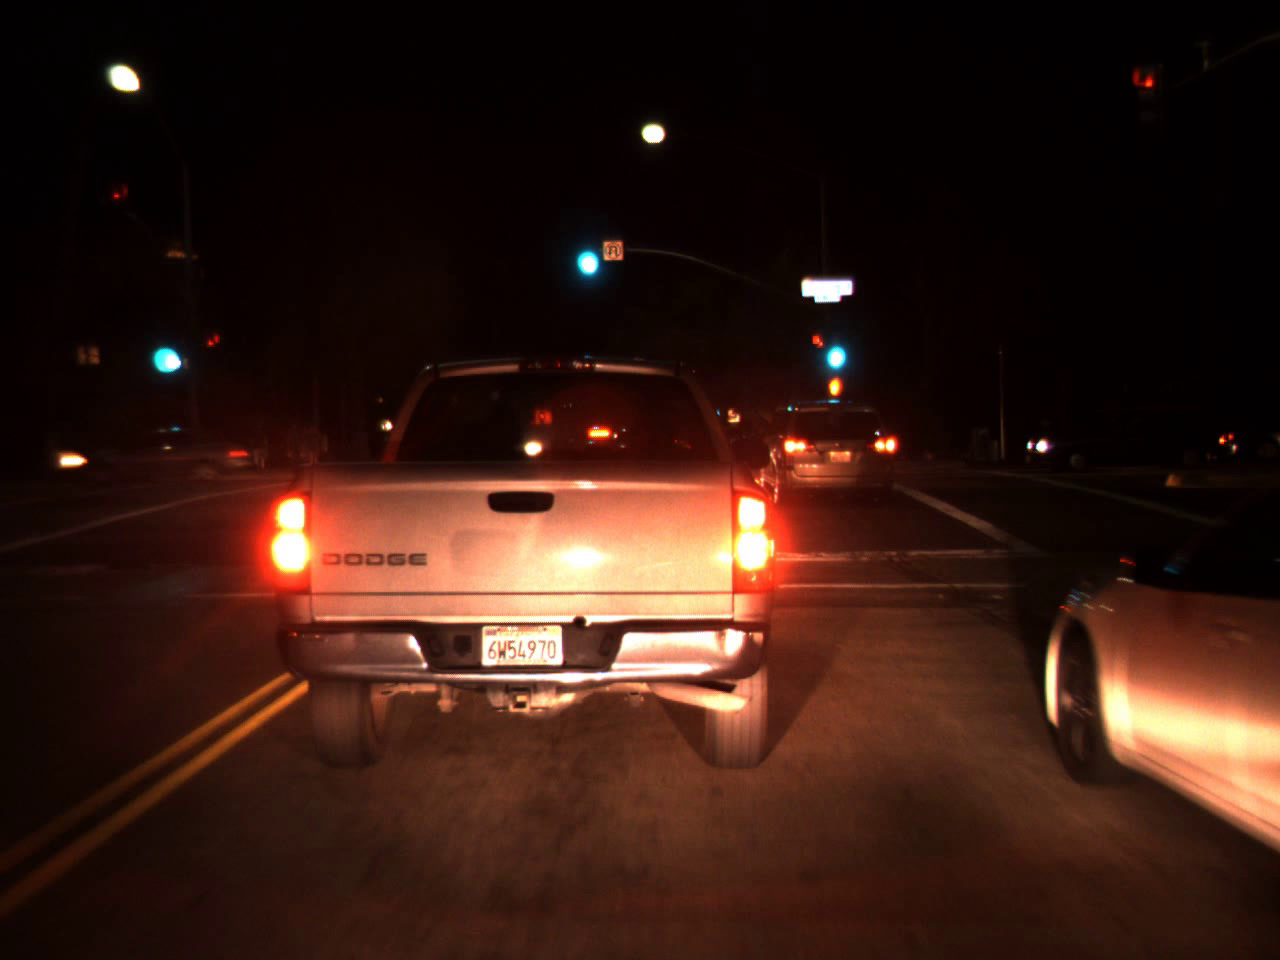go: (144, 314, 181, 383), (568, 219, 604, 285), (819, 315, 849, 378)
